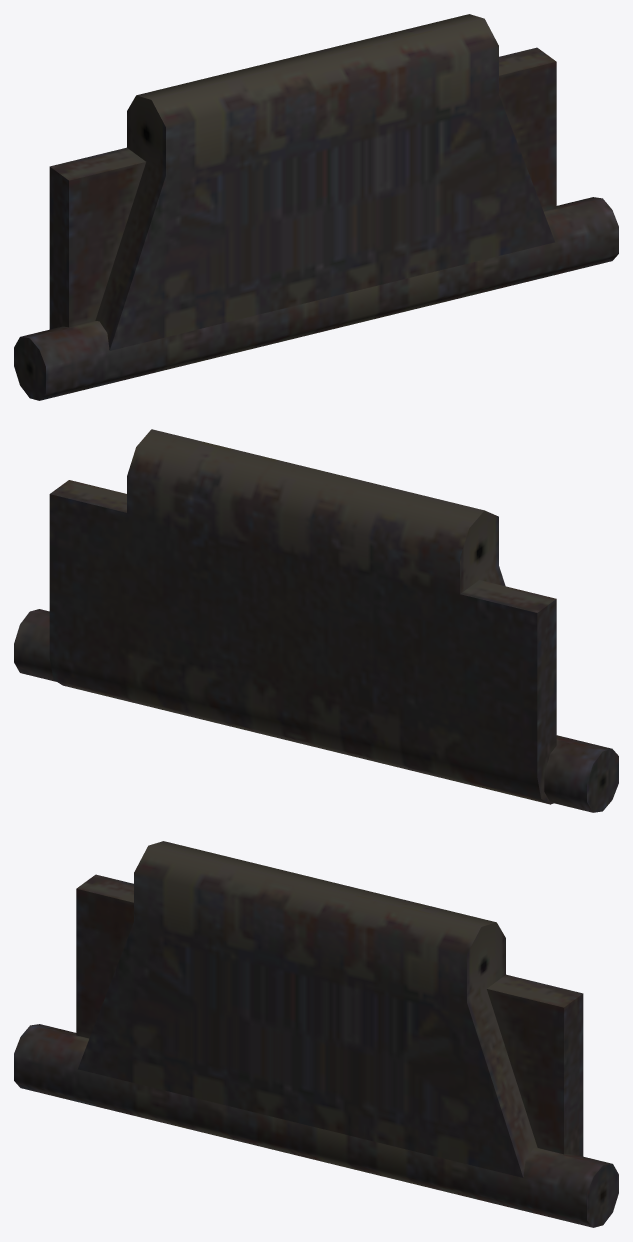
3 views of the same model, one above another, from view 1: azimuth 30°, elevation 25°; view 2: azimuth 150°, elevation 25°; view 3: azimuth 330°, elevation 25° (orthographic).
Visible parts, largest first — view 1: set_0_group_0; view 2: set_0_group_0; view 3: set_0_group_0.
Part boxes in pixels (bbox=[...]): set_0_group_0: bbox=[14, 14, 618, 400]; set_0_group_0: bbox=[14, 429, 618, 812]; set_0_group_0: bbox=[14, 841, 618, 1227].
Bounding box in the file's own units: 0.3409 × 0.1537 × 0.0401.
1 material, 1 textured.
